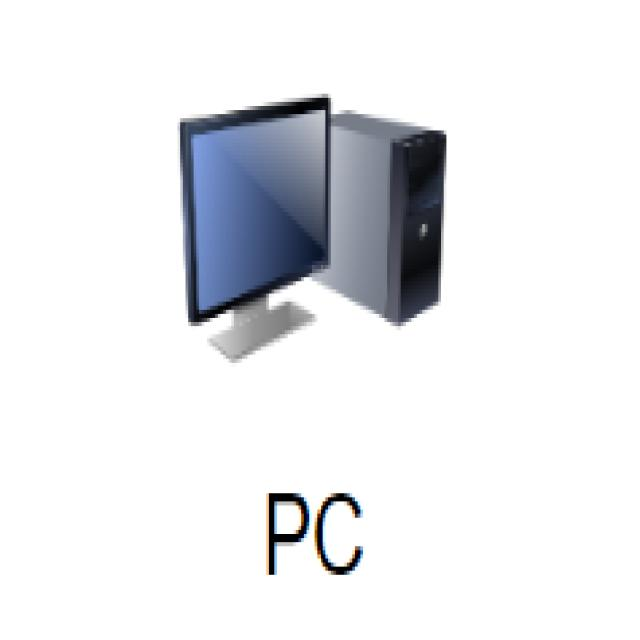Client: (113, 27, 539, 427)
